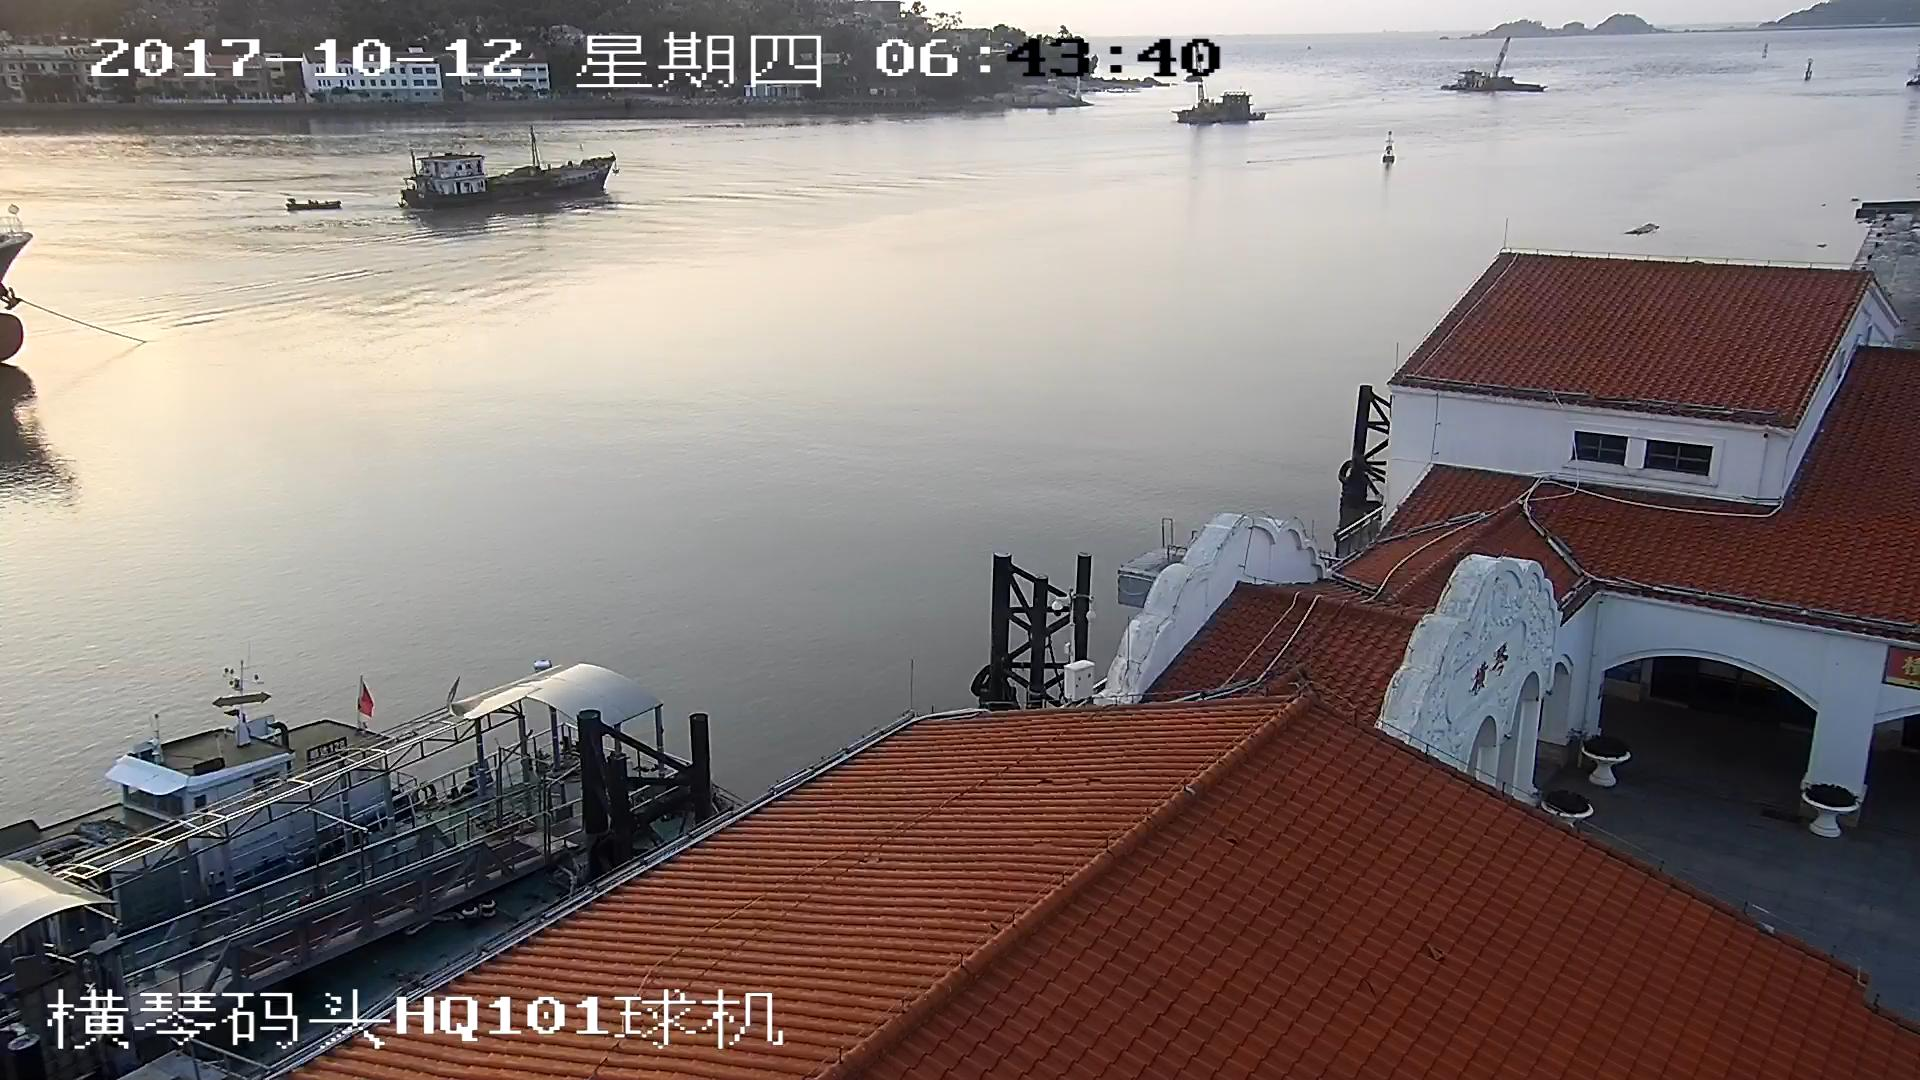fishing boat: (400, 147, 620, 210)
